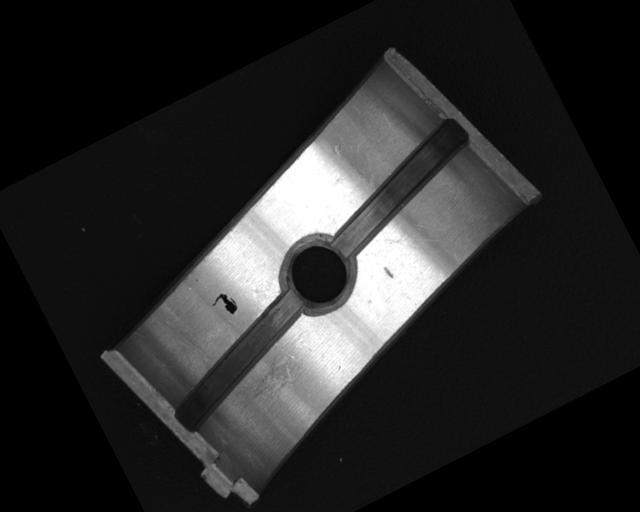blot: (208, 288, 241, 322)
bruise: (382, 264, 395, 280)
gap: (146, 286, 330, 435), (307, 116, 492, 261)
hole: (269, 226, 364, 319)
scratch: (217, 336, 315, 416)
